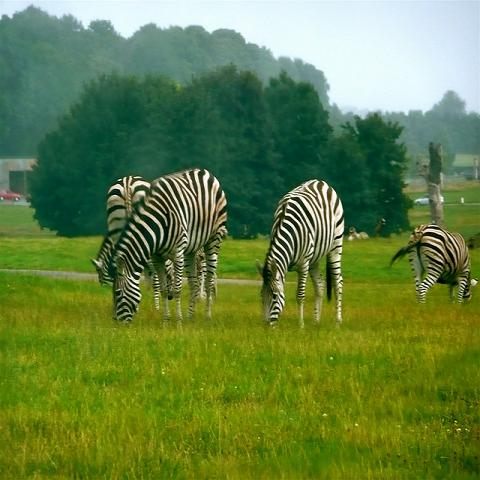car: (415, 192, 445, 207), (0, 189, 20, 202)
